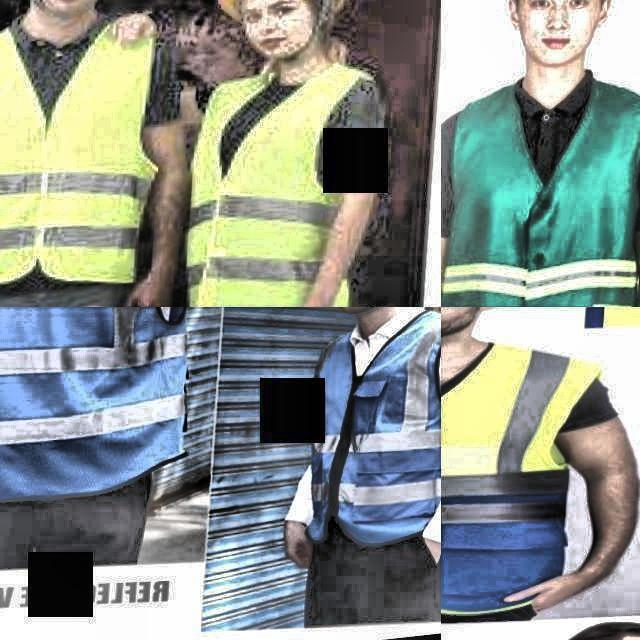safety_jacket: (0, 12, 159, 307), (441, 89, 640, 307), (182, 71, 350, 307), (441, 342, 574, 640), (0, 307, 189, 508), (302, 316, 441, 568)
